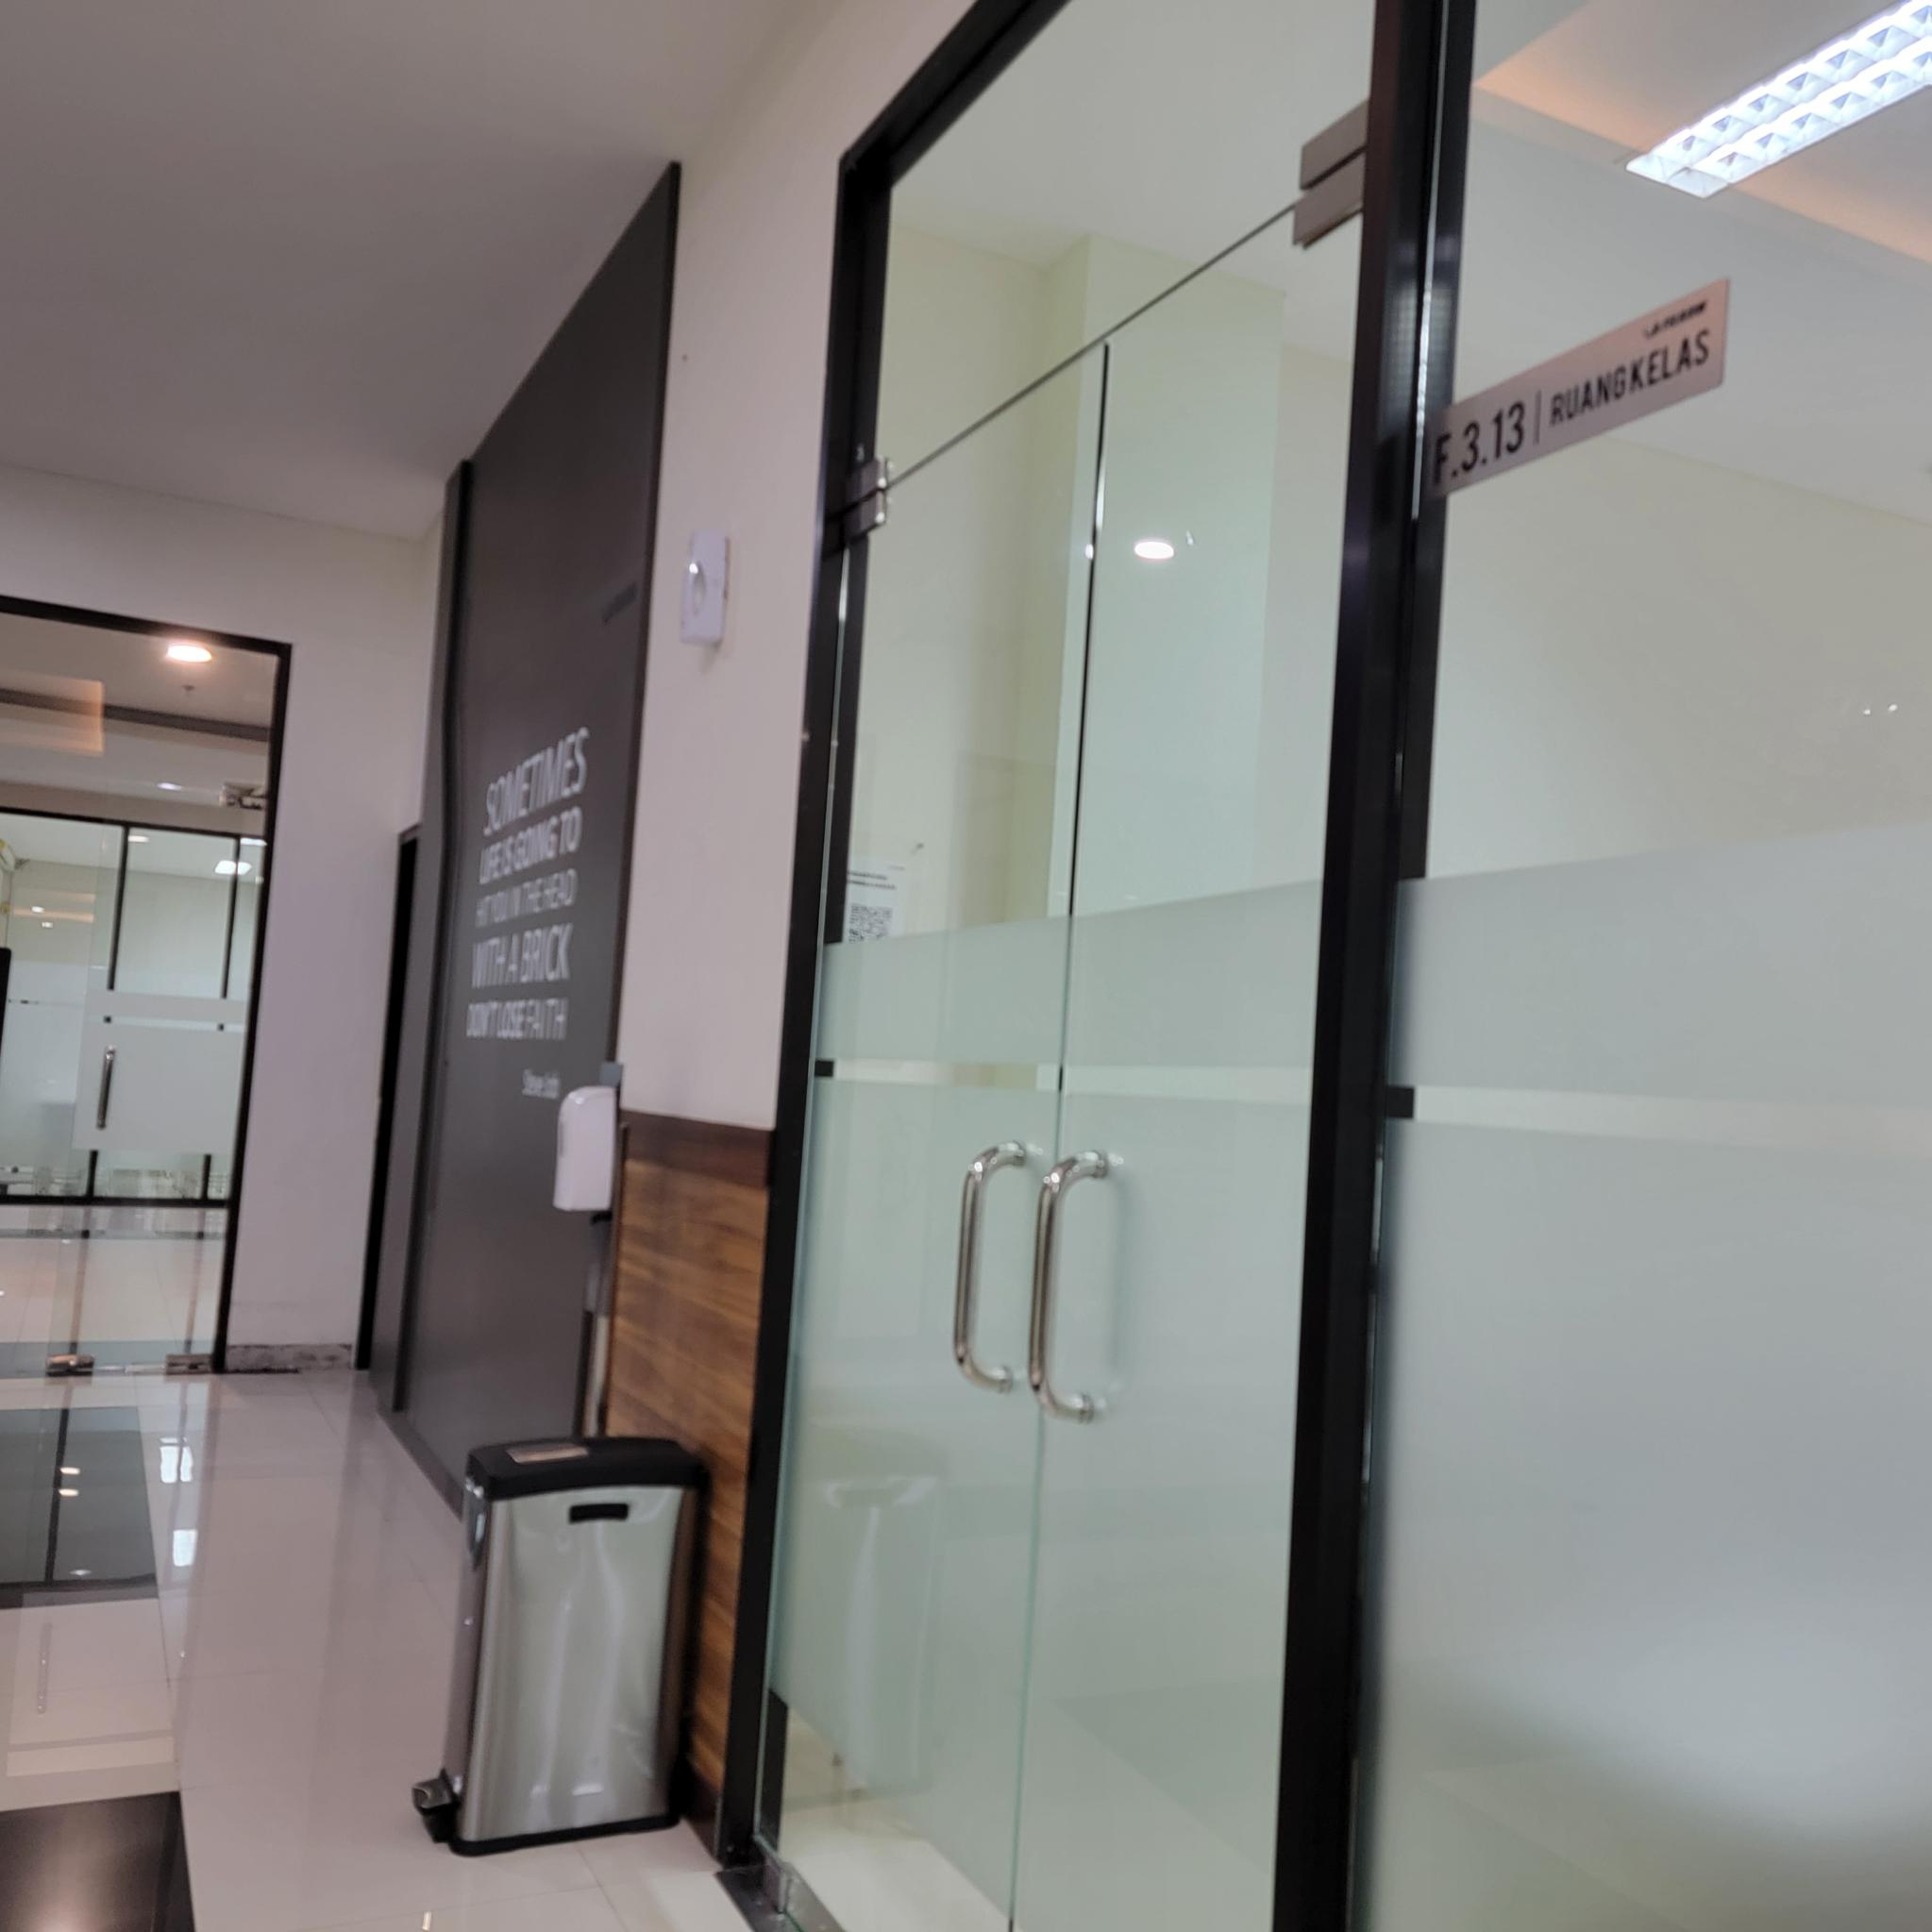plate: (1424, 276, 1732, 501)
